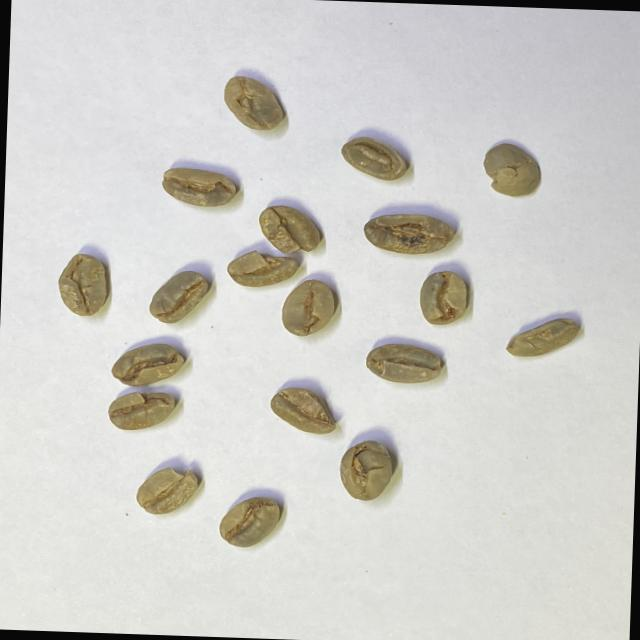bad: (360, 210, 458, 258), (222, 72, 287, 132), (109, 340, 188, 389), (363, 339, 445, 386), (479, 140, 544, 199), (216, 492, 282, 550), (54, 250, 110, 318), (336, 437, 394, 502), (134, 463, 202, 518), (147, 268, 211, 326), (268, 384, 338, 436), (278, 277, 336, 339), (338, 134, 411, 183), (255, 202, 322, 255), (504, 316, 582, 361), (160, 164, 238, 208), (106, 388, 176, 434), (416, 268, 469, 328), (225, 248, 300, 290)
